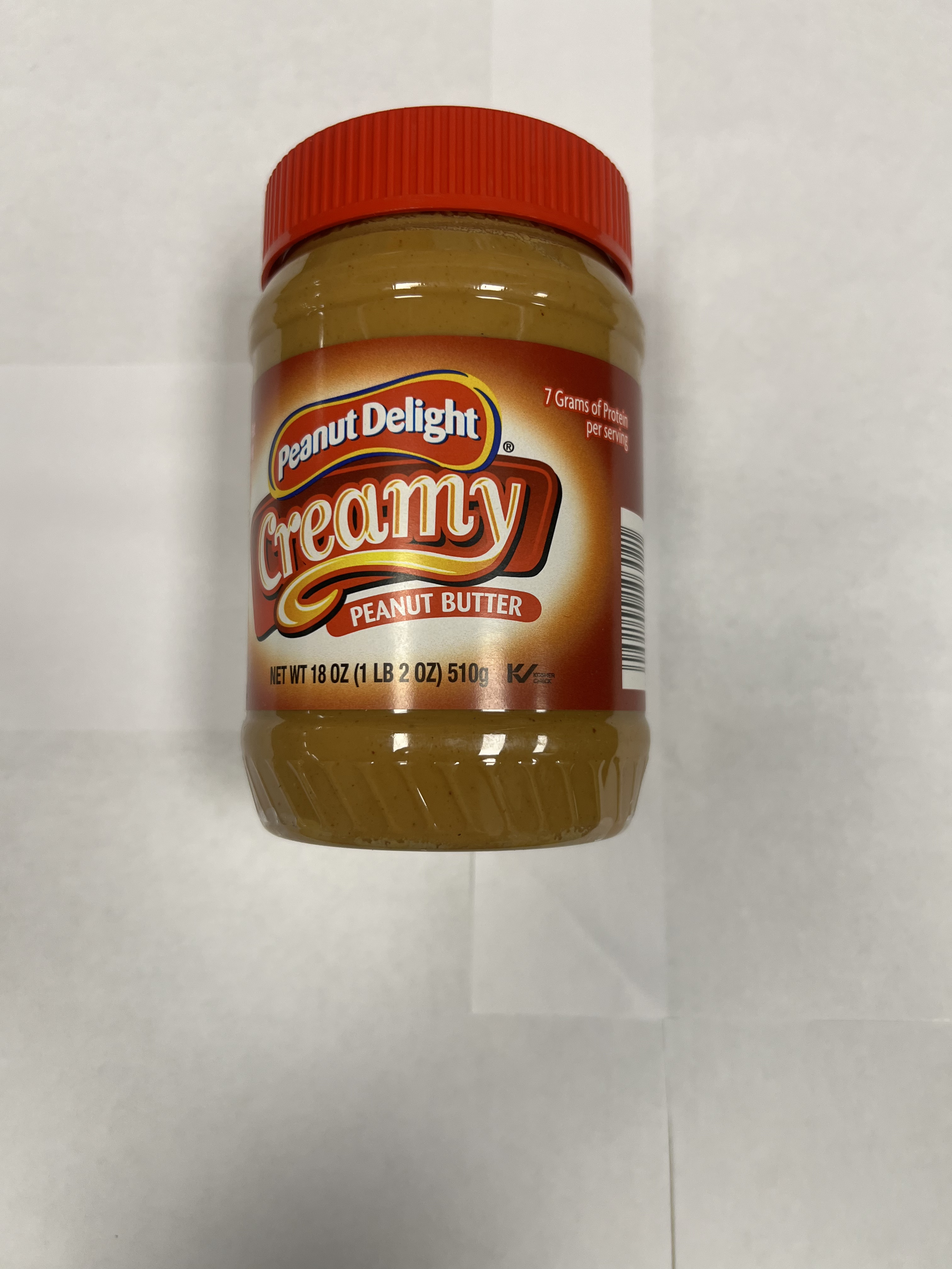packaged: (238, 100, 657, 854)
